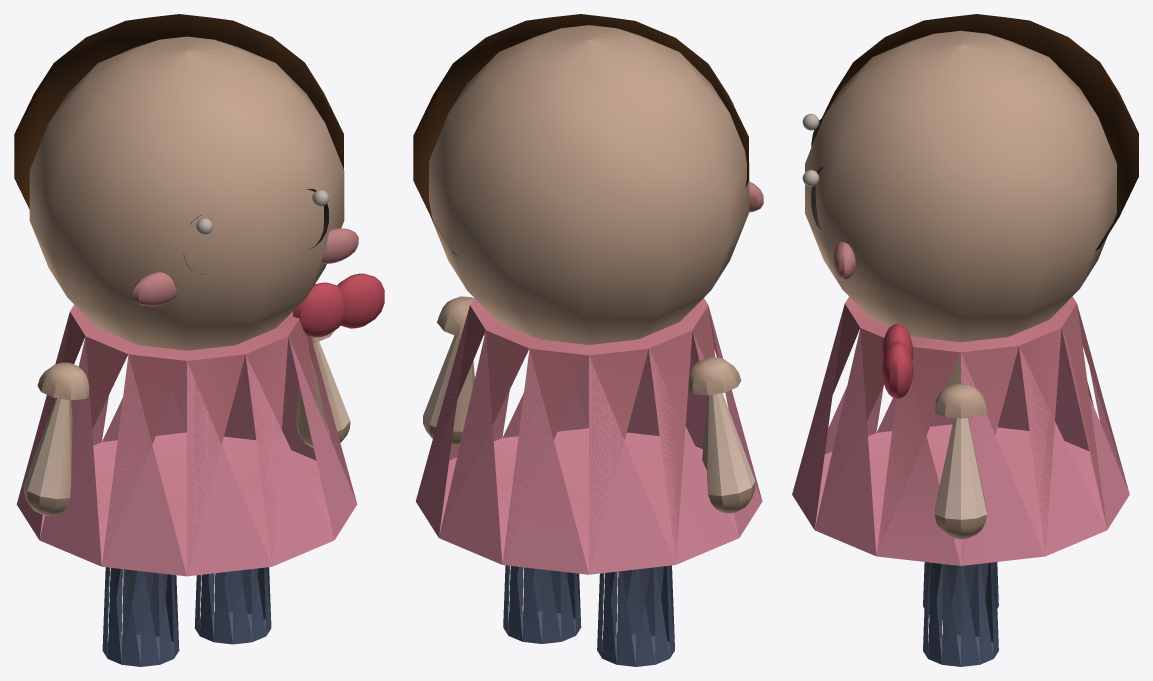
File: pfb599946.glb
The picture shows the model from 3 angles, left to right: view 1: azimuth 30°, elevation 25°; view 2: azimuth 150°, elevation 25°; view 3: azimuth 270°, elevation 25°; orthographic projection. The views are drawn at different scales.
Visible parts, largest first — view 1: pet_pfb599946; view 2: pet_pfb599946; view 3: pet_pfb599946.
Part boxes in pixels (left/top/right/bottom): pet_pfb599946: left=14, top=14, right=384, bottom=666; pet_pfb599946: left=413, top=14, right=763, bottom=666; pet_pfb599946: left=792, top=14, right=1138, bottom=666.
Bounding box in the file's own units: 0.2998 × 0.5313 × 0.2793.
